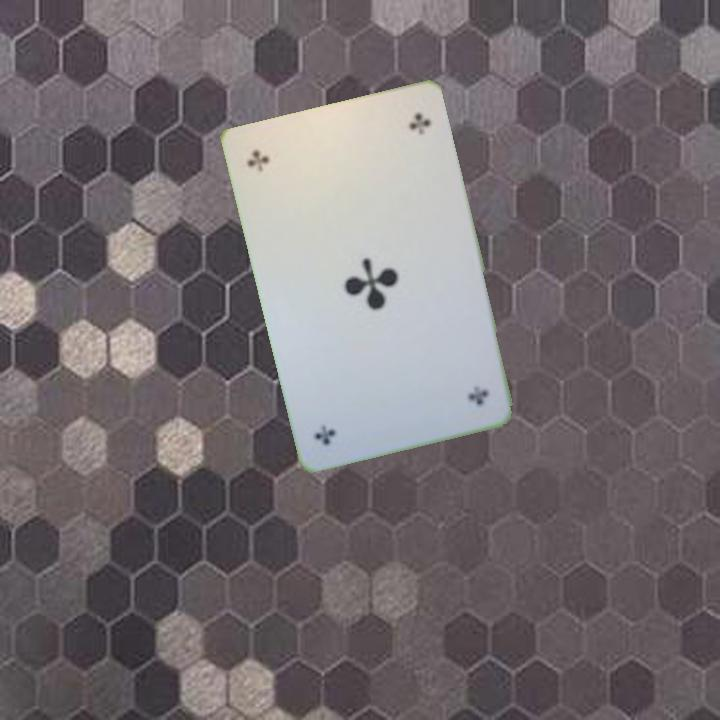c_a.png: (386, 327, 502, 433), (239, 120, 355, 226)
